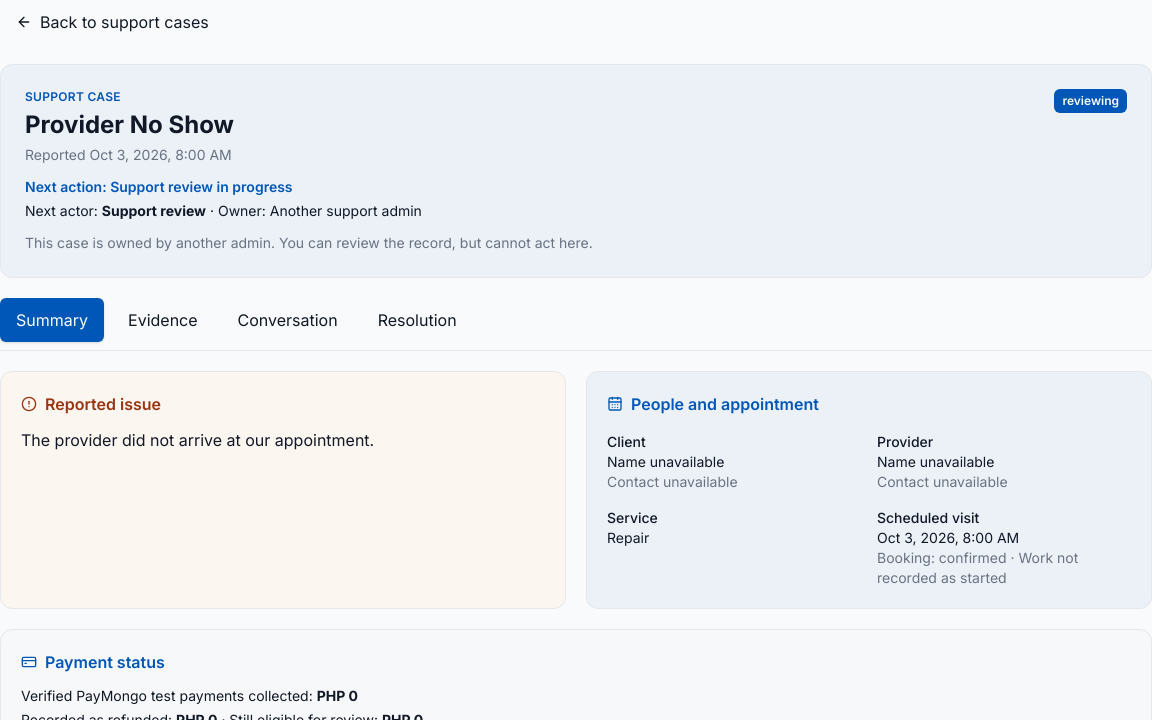
Test: AdminCasePage › groups evidence and separates participant conversation from private notes
Check: the heading "Payment status" is shown, box [21,652,165,672]
Click the button "Evidence".
click(163, 320)  # box [112,298,214,342]
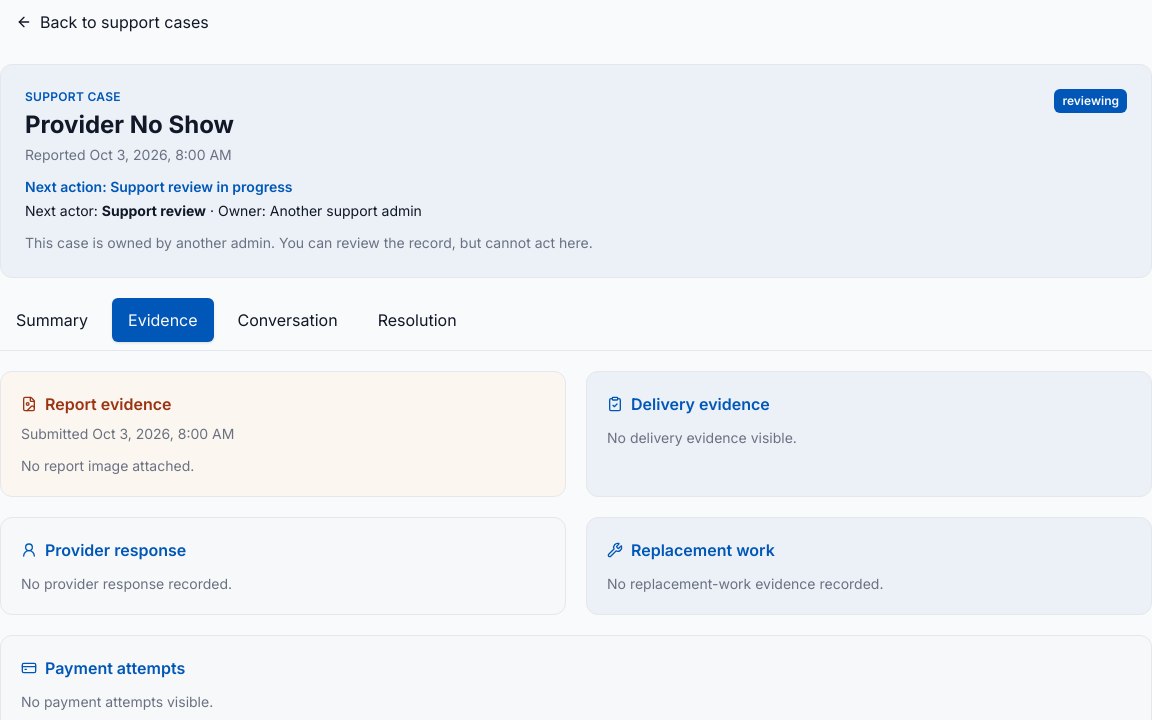
Check: the heading "Report evidence" is shown, box [21,394,172,414]
Check: the heading "Delivery evidence" is shown, box [607,394,770,414]
Check: the text "No payment attempts visible." is shown, box [21,693,213,710]
Click the button "Conversation".
click(288, 320)  # box [222,298,354,342]
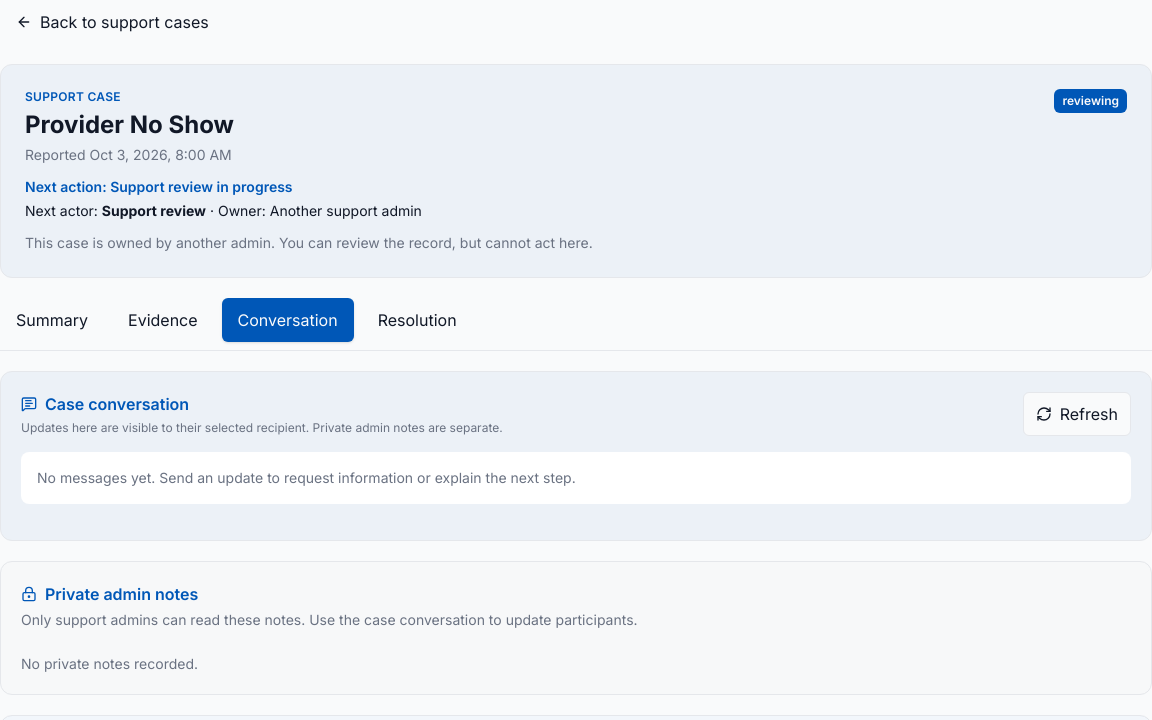
Check: the heading "Private admin notes" is shown, box [21,584,198,604]
Check: the text "Only support admins can read these notes" is shown, box [21,611,638,628]
